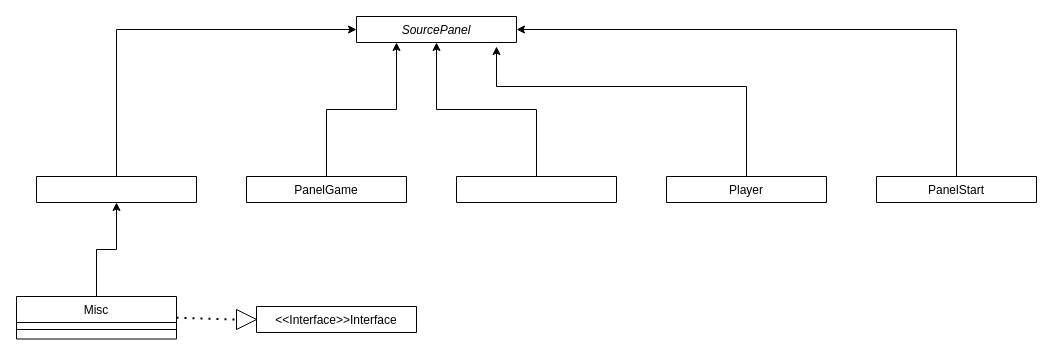
The diagram is 1053 pixels wide and 355 high, and some of its shapes have lost their labels. The centre of each missing label's shape, as x and y in pixels:
"PanelCredits" goes at (x=536, y=189).
"PanelSetWord" goes at (x=116, y=189).
